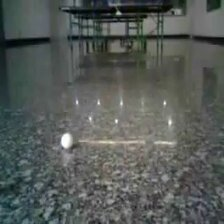w: (60, 133, 73, 148)
